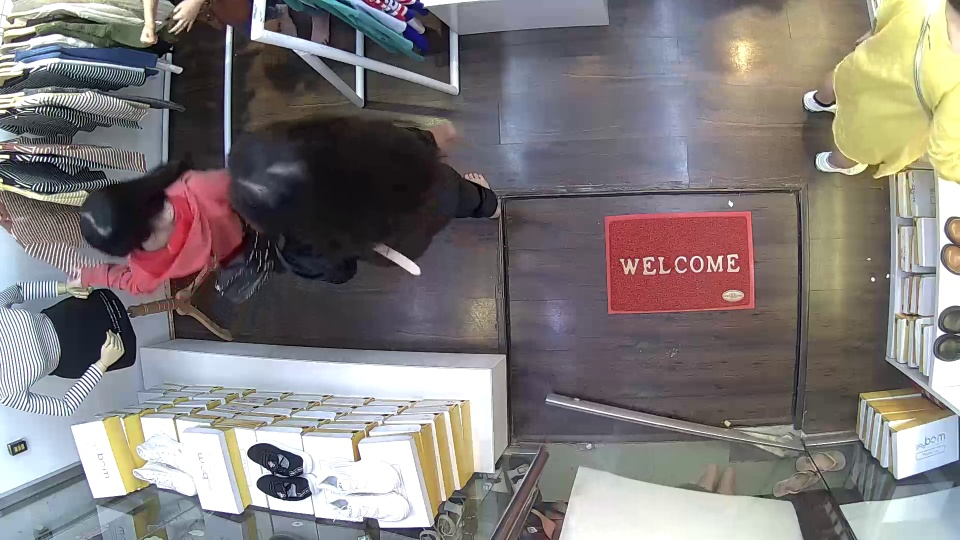topviewhead: (233, 128, 346, 229), (79, 183, 155, 253)
